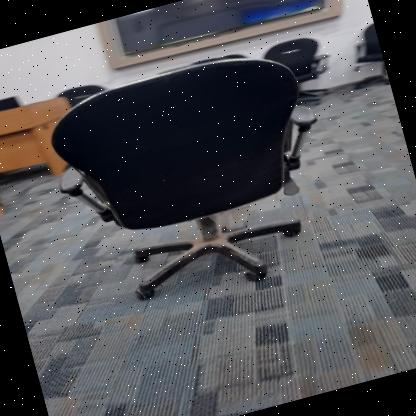chair: (20, 23, 360, 331)
